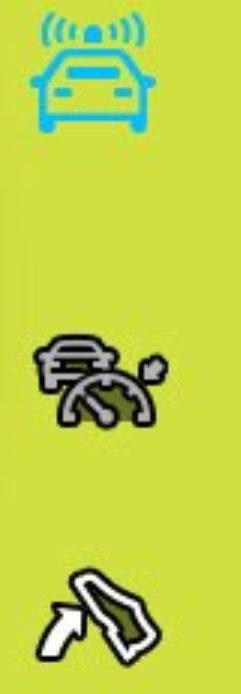ACCELERATOR: (16, 545, 176, 685)
ACC_AKTIV: (18, 319, 195, 443)
SEV_INF: (9, 1, 172, 167)
